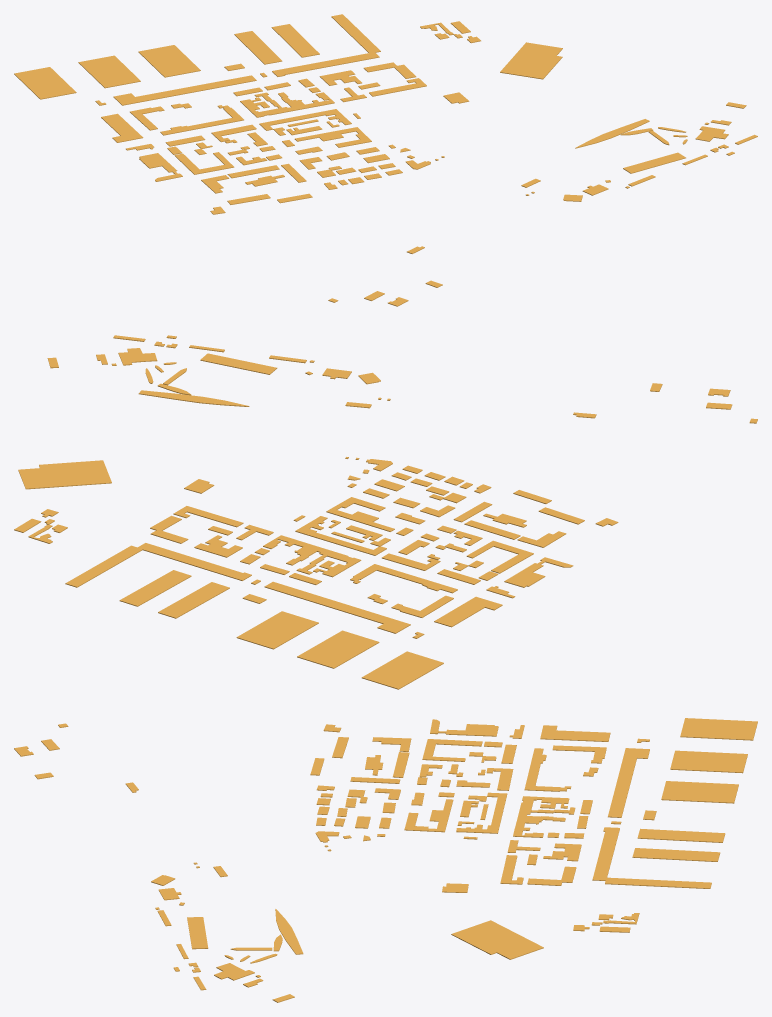
File: umgebungsmodell.glb
3 renders of one model, top to bottom at view 1: azimuth 30°, elevation 25°; view 2: azimuth 150°, elevation 25°; view 3: azimuth 270°, elevation 25°, orthographic. The views are drawn at different scales.
Parts seen in each view (by area): view 1: way_120183510, way_358363838, way_358363822, way_358363835, way_358363824, way_360489883, way_358363821, way_358363831, way_173309796; view 2: way_120183510, way_358363838, way_358363822, way_358363824, way_358363835, way_360489883, way_358363821, way_358363831, way_173309796, way_363083930; view 3: way_120183510, way_358363838, way_358363822, way_358363835, way_358363824, way_360489883, way_358363821, way_358363831, way_173309796, way_363083930.
Part boxes in pixels (box(x1,y1,x2,y2)): way_120183510: box(500, 42, 562, 79); way_358363838: box(272, 14, 380, 76); way_358363822: box(14, 67, 76, 99); way_358363835: box(138, 45, 200, 77); way_358363824: box(78, 55, 140, 88); way_360489883: box(113, 75, 256, 105); way_358363821: box(271, 24, 319, 57); way_358363831: box(234, 31, 282, 64); way_173309796: box(101, 113, 143, 142); way_120183510: box(18, 460, 111, 489); way_358363838: box(65, 543, 251, 587); way_358363822: box(361, 651, 443, 689); way_358363824: box(297, 630, 379, 668); way_358363835: box(236, 611, 318, 649); way_360489883: box(264, 581, 410, 633); way_358363821: box(119, 570, 191, 606); way_358363831: box(158, 582, 229, 618); way_173309796: box(434, 596, 502, 627); way_363083930: box(138, 390, 249, 406); way_120183510: box(451, 920, 543, 959); way_358363838: box(592, 827, 711, 888); way_358363822: box(680, 718, 757, 740); way_358363835: box(661, 781, 738, 803); way_358363824: box(670, 750, 747, 773); way_360489883: box(608, 748, 649, 817); way_358363821: box(632, 848, 720, 861); way_358363831: box(637, 828, 725, 842); way_173309796: box(540, 725, 610, 741); way_363083930: box(275, 909, 303, 954).
Bounding box in the file's own units: 815 × 1 × 901.
